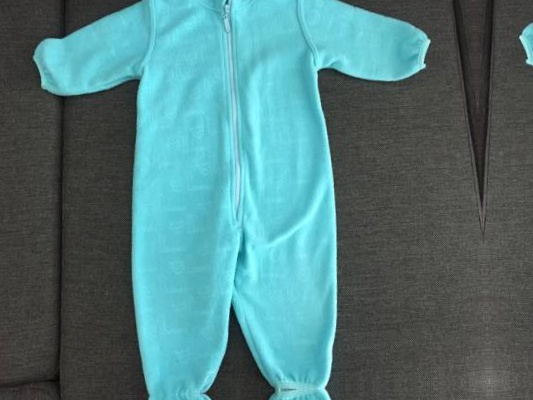Body: (16, 0, 461, 390), (500, 0, 533, 369), (34, 394, 479, 400), (518, 374, 533, 400)
